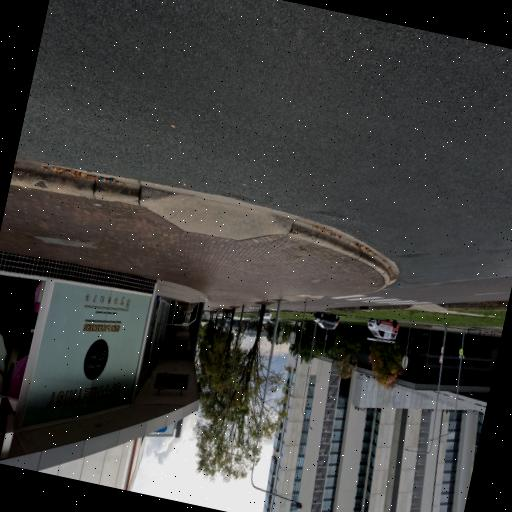kerb_cut: (140, 190, 285, 242)
